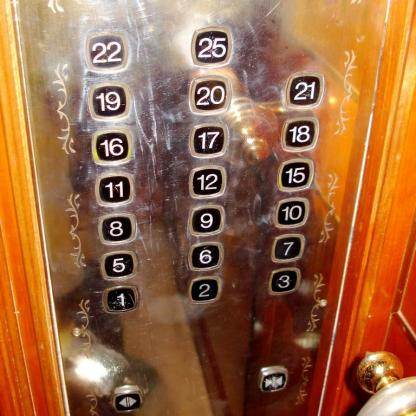1: (100, 283, 140, 314)
10: (272, 195, 310, 228)
11: (94, 173, 136, 207)
12: (187, 164, 226, 199)
15: (276, 156, 316, 192)
16: (88, 127, 132, 167)
17: (186, 123, 229, 159)
18: (280, 116, 320, 152)
19: (86, 80, 132, 121)
2: (187, 275, 221, 302)
20: (188, 74, 233, 116)
21: (282, 70, 326, 110)
22: (83, 30, 129, 73)
25: (190, 25, 233, 68)
3: (267, 265, 301, 297)
5: (99, 249, 139, 281)
6: (186, 240, 225, 271)
7: (270, 233, 304, 262)
8: (96, 212, 138, 245)
9: (187, 204, 226, 236)
close: (256, 364, 288, 392)
open: (110, 384, 144, 414)
